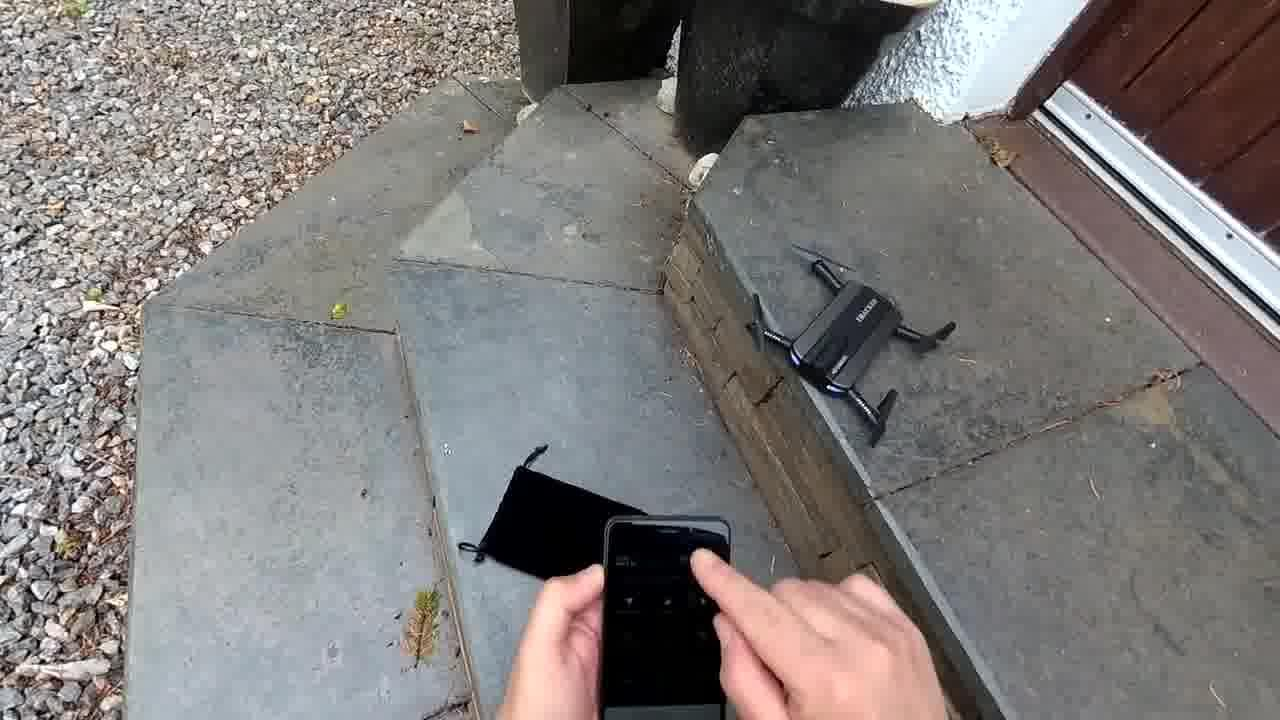drone: (728, 230, 973, 458)
